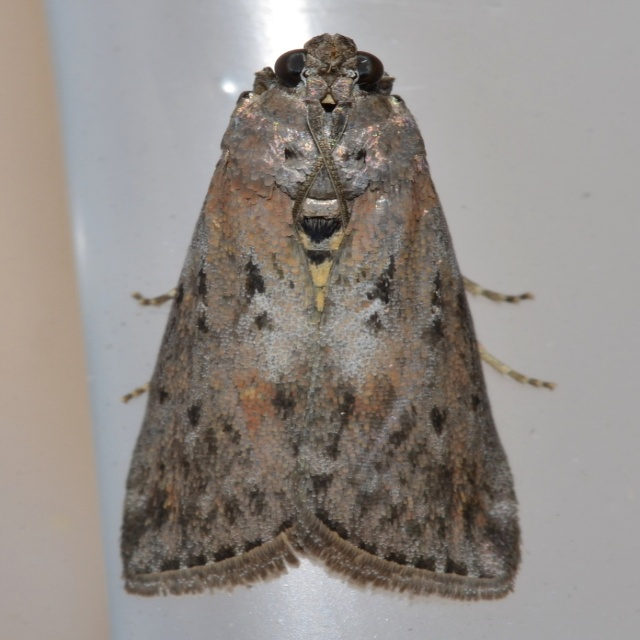Moths and butterflies: (124, 32, 564, 604)
